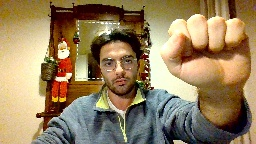Pugno: (157, 11, 255, 98)
